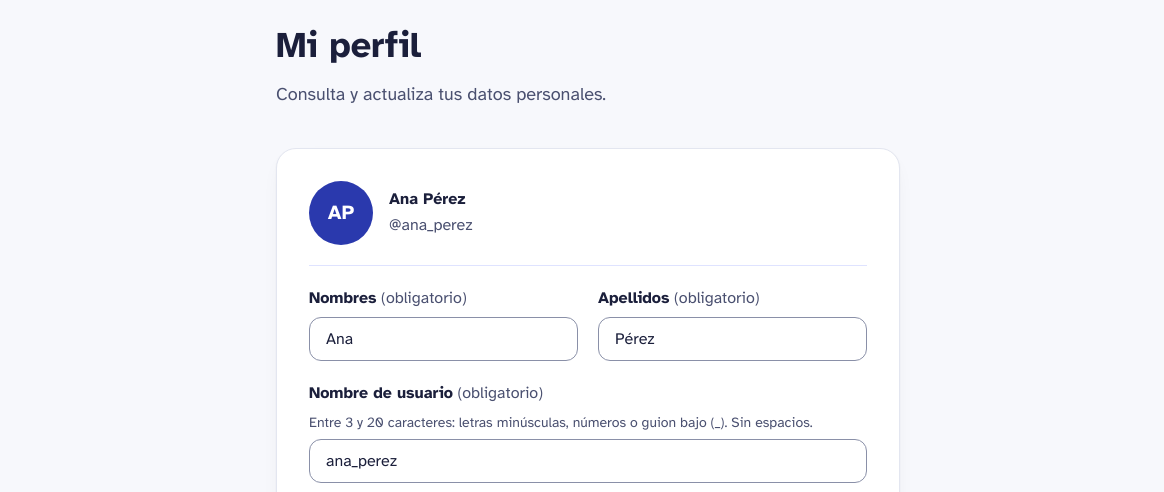
Test: Mi perfil › conserva el borrador ante un fallo de red y permite reintentar
The image size is (1164, 492).
Expected: the heading "Mi perfil" is shown, [276, 23, 421, 67]
Replace the text in the field labelled "Nombres (obligatorio)" with "Mariana": (444, 339) [309, 317, 578, 361]
(page scrolled)
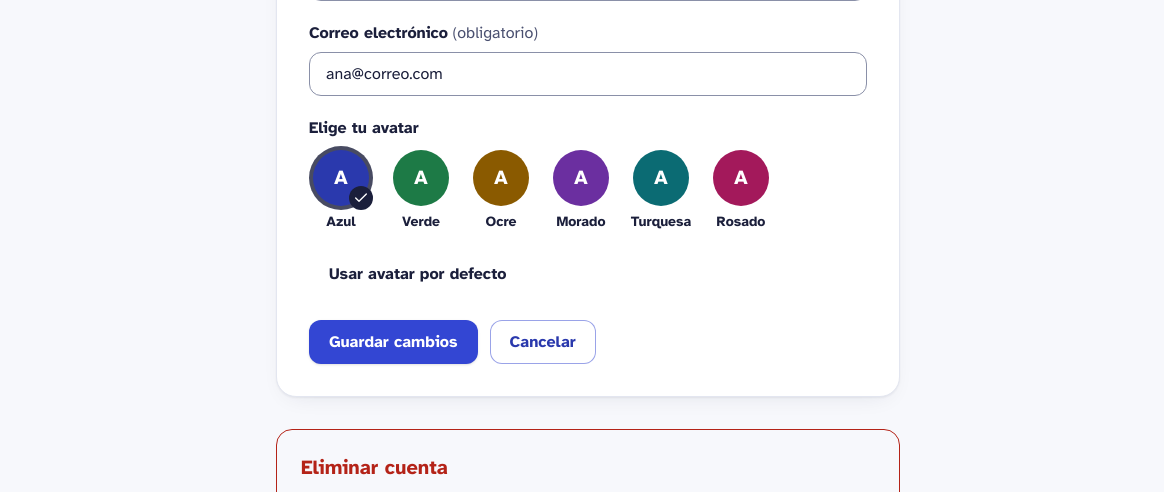
Click the button "Guardar cambios": (393, 342) [309, 320, 478, 364]
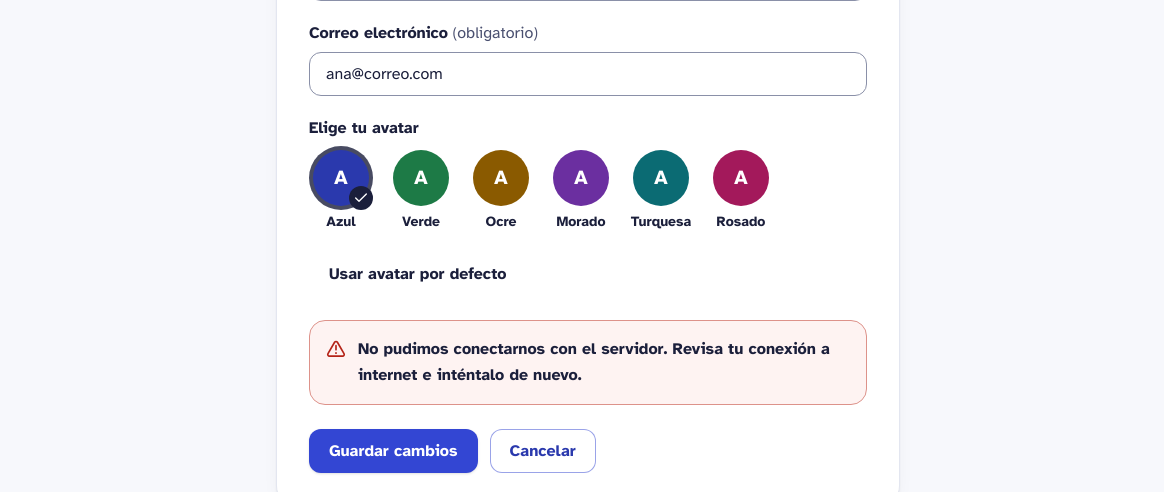
Now the text "No pudimos conectarnos con el servidor" is shown, box [358, 339, 830, 385]
Click the button "Guardar cambios": (393, 451) [309, 429, 478, 473]
(page scrolled)
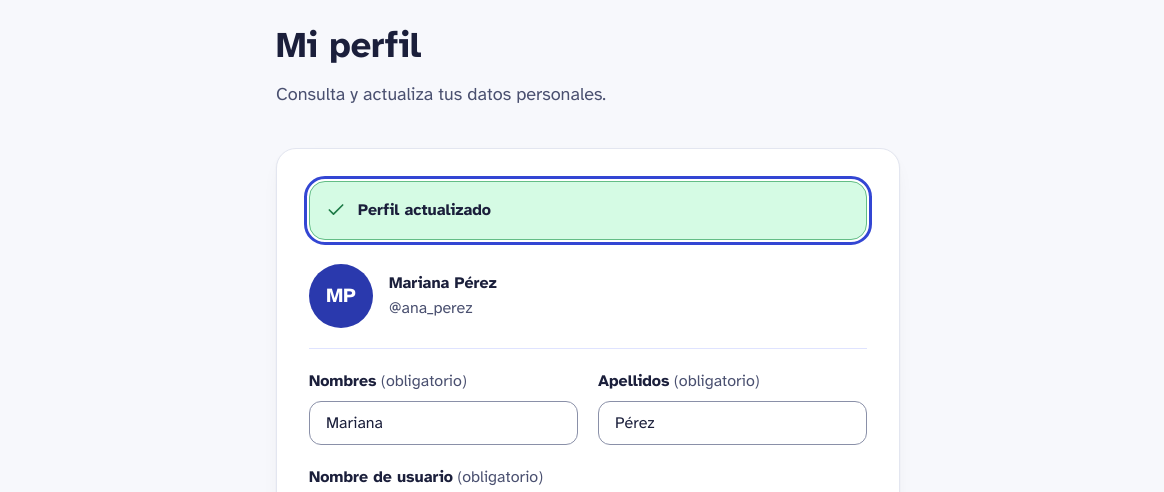
Now the text "Perfil actualizado" is shown, box [358, 200, 491, 220]
